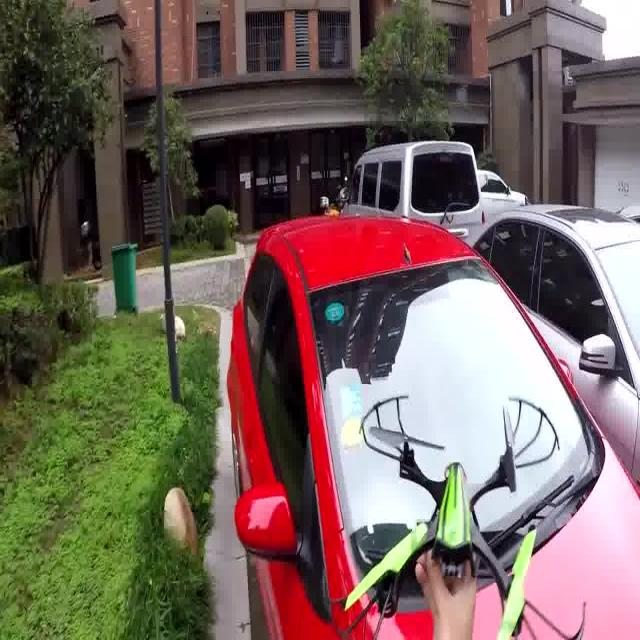drones: (319, 391, 591, 640)
